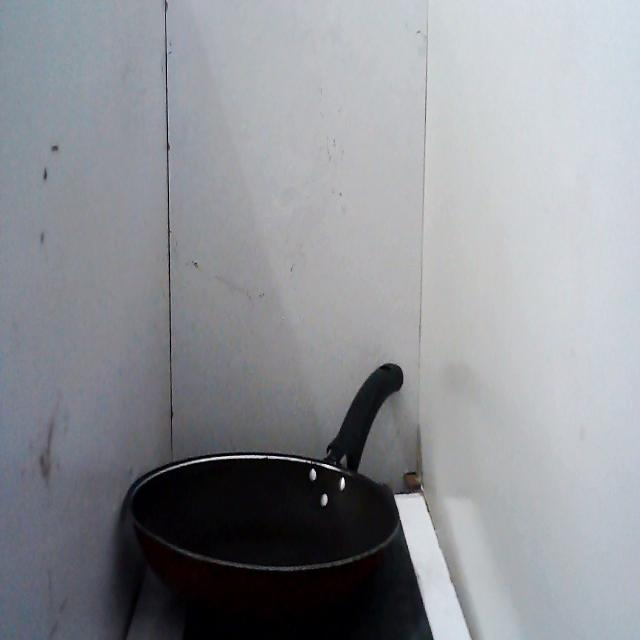metal: (115, 358, 411, 636)
